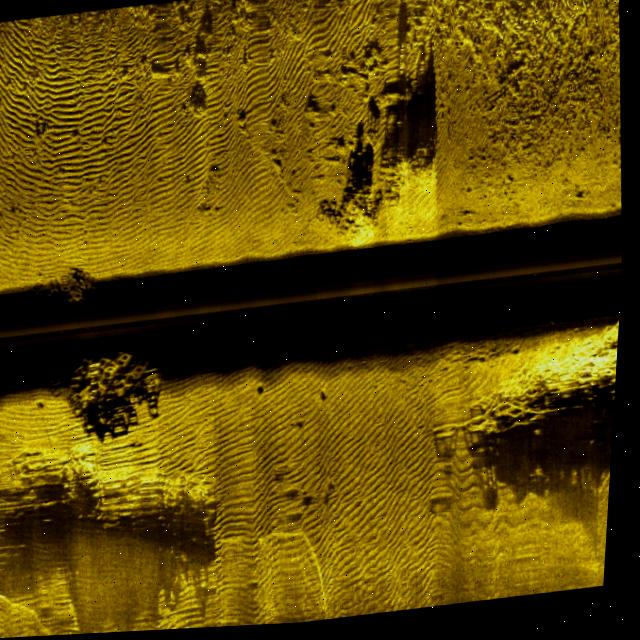artificial reef: (450, 320, 624, 439), (30, 346, 182, 431), (11, 264, 113, 321)
